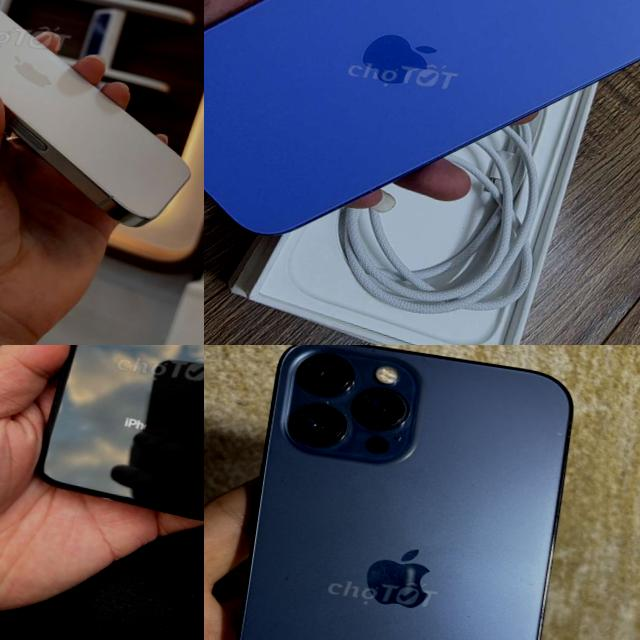gen_12_13: (204, 345, 577, 640)
gen_16: (204, 0, 640, 234), (0, 11, 188, 226)
gen_7_8: (31, 345, 204, 528)
